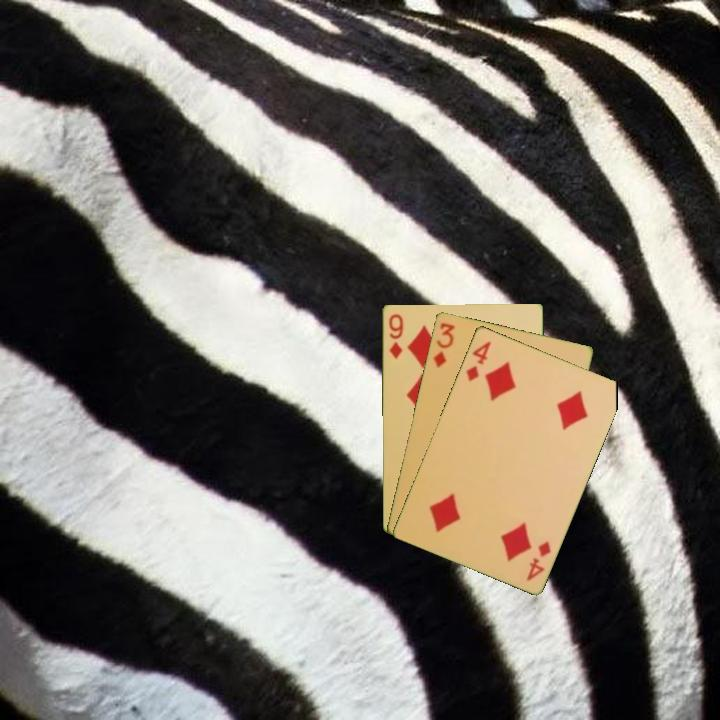3d: (429, 319, 458, 370)
4d: (462, 337, 494, 384), (523, 537, 554, 584)
9d: (385, 310, 406, 361)
